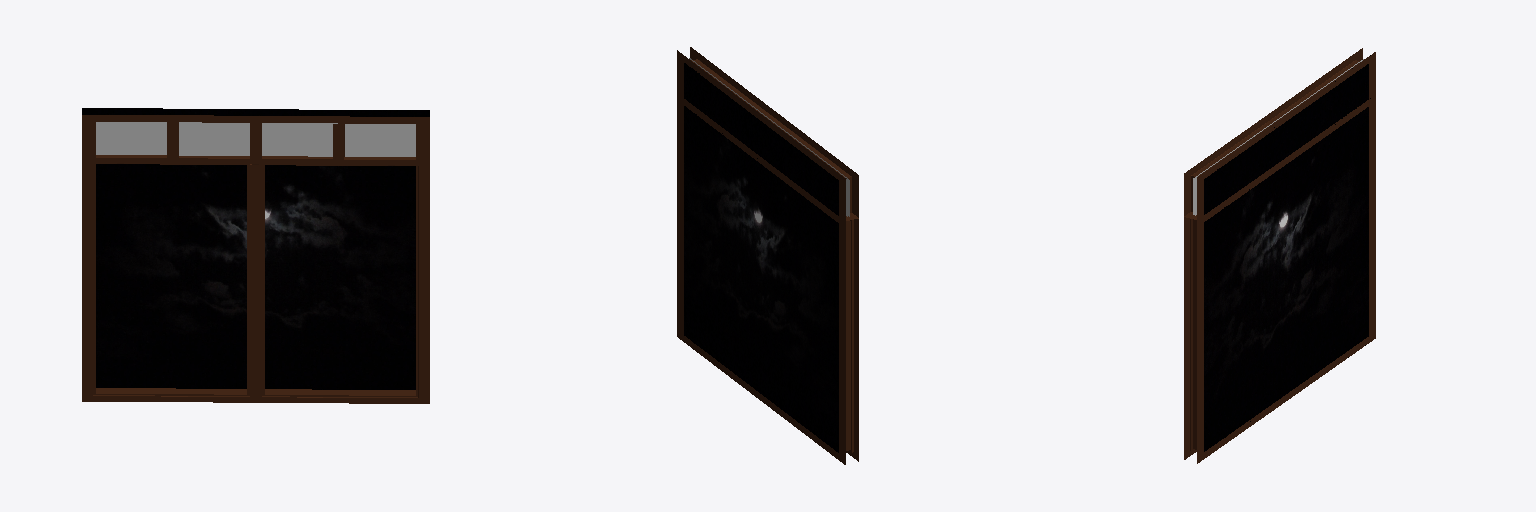
3 views of the same model, side by side, from view 1: azimuth 30°, elevation 25°; view 2: azimuth 150°, elevation 25°; view 3: azimuth 270°, elevation 25° (orthographic).
Size of the model in its own units: 1.94 by 2 by 1.22.
Materials: 3 (1 with a texture image).